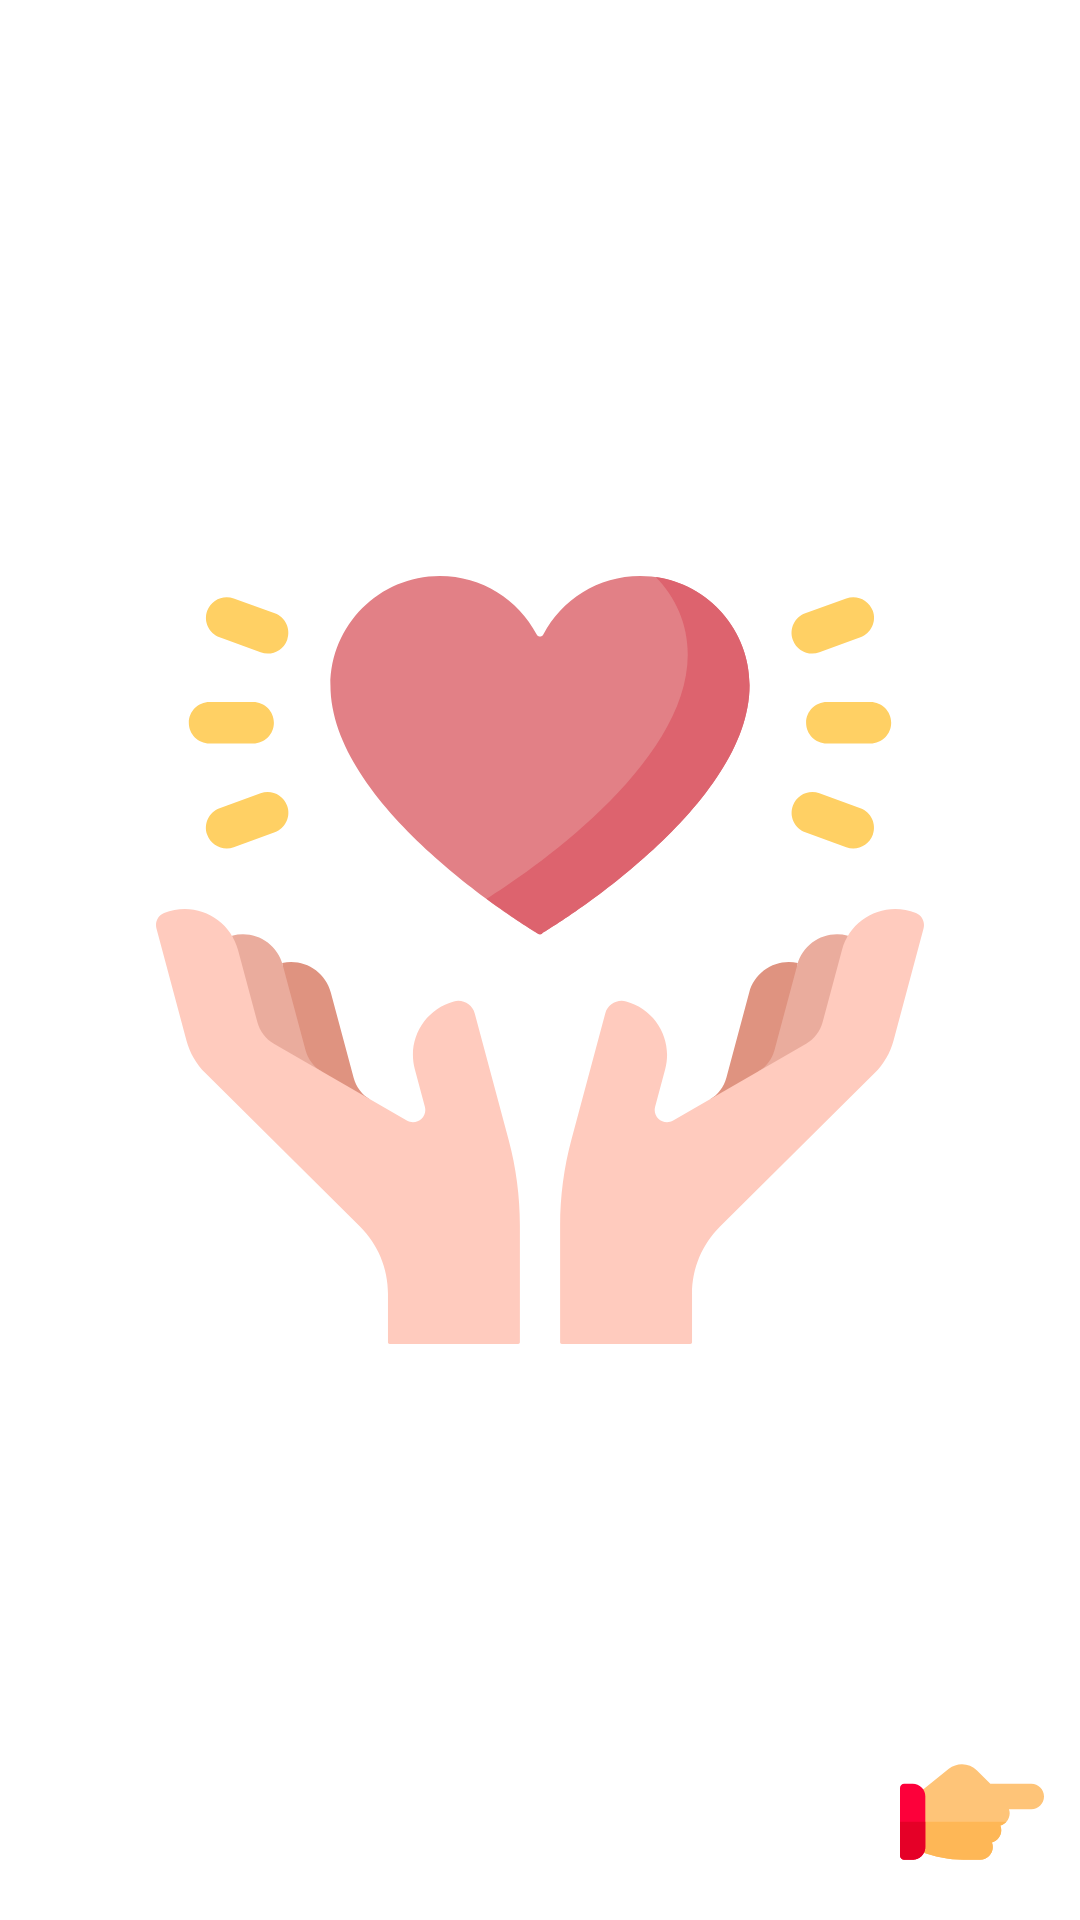

Point at icon controls on the screen. Image size 1080×1920, points as [x,y].
point: [972,1812]
